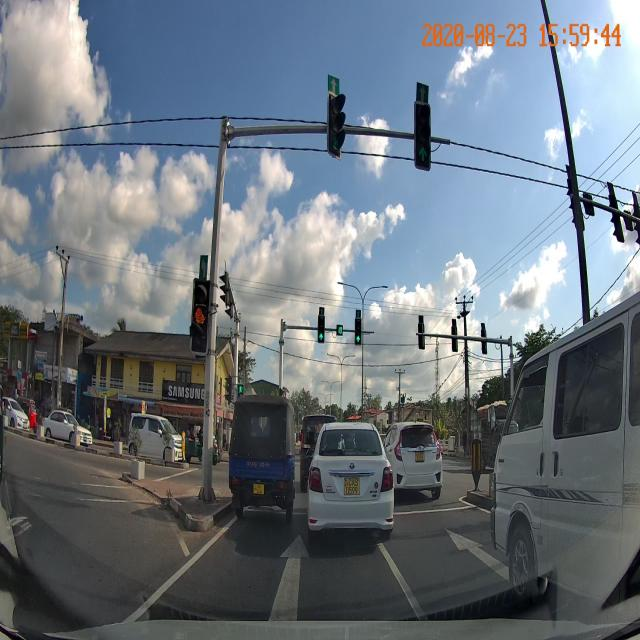Strelka vpered: (266, 530, 311, 623), (443, 528, 511, 581)
